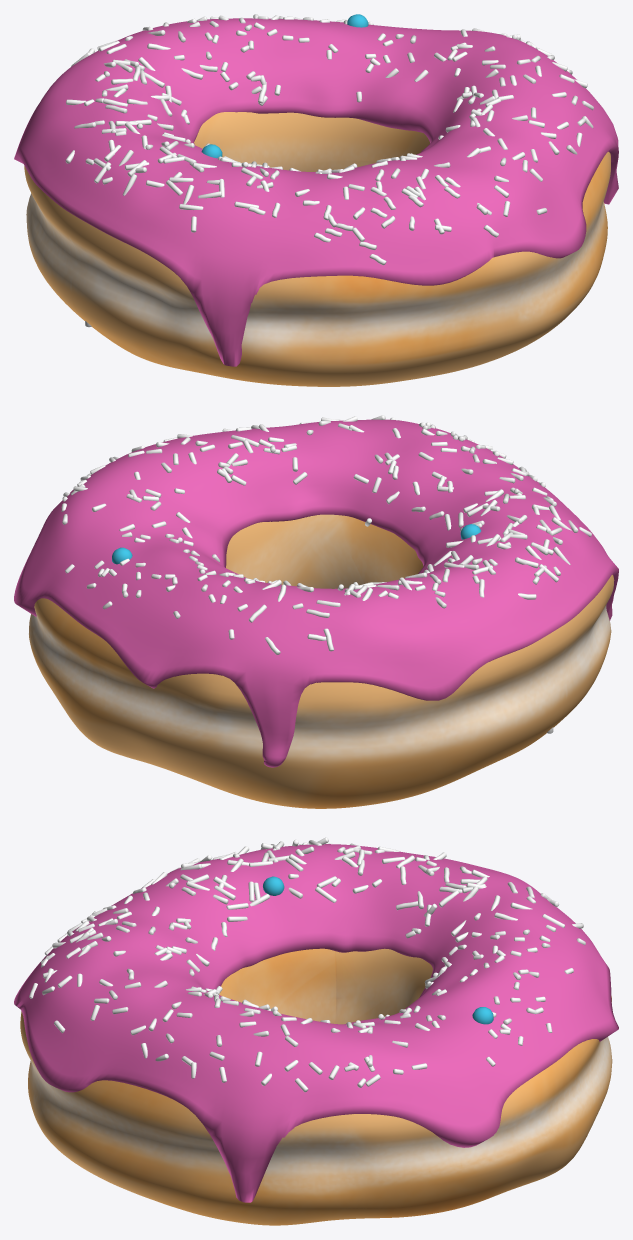
File: ponchik.glb
3 views of the same model, one above another, from view 1: azimuth 30°, elevation 25°; view 2: azimuth 150°, elevation 25°; view 3: azimuth 270°, elevation 25° (orthographic). The views are drawn at different scales.
Visible parts, largest first — view 1: icing, donut; view 2: icing, donut; view 3: icing, donut.
Boxes of the visible parts, box(x1,y1,x2,y2) form: icing: box(14, 18, 618, 366); donut: box(24, 112, 610, 386); icing: box(14, 419, 618, 767); donut: box(29, 514, 614, 808); icing: box(14, 844, 618, 1202); donut: box(20, 948, 612, 1225).
Bounding box in the file's own units: 0.1488 × 0.0602 × 0.1507.
Materials: 4 (1 with a texture image).
